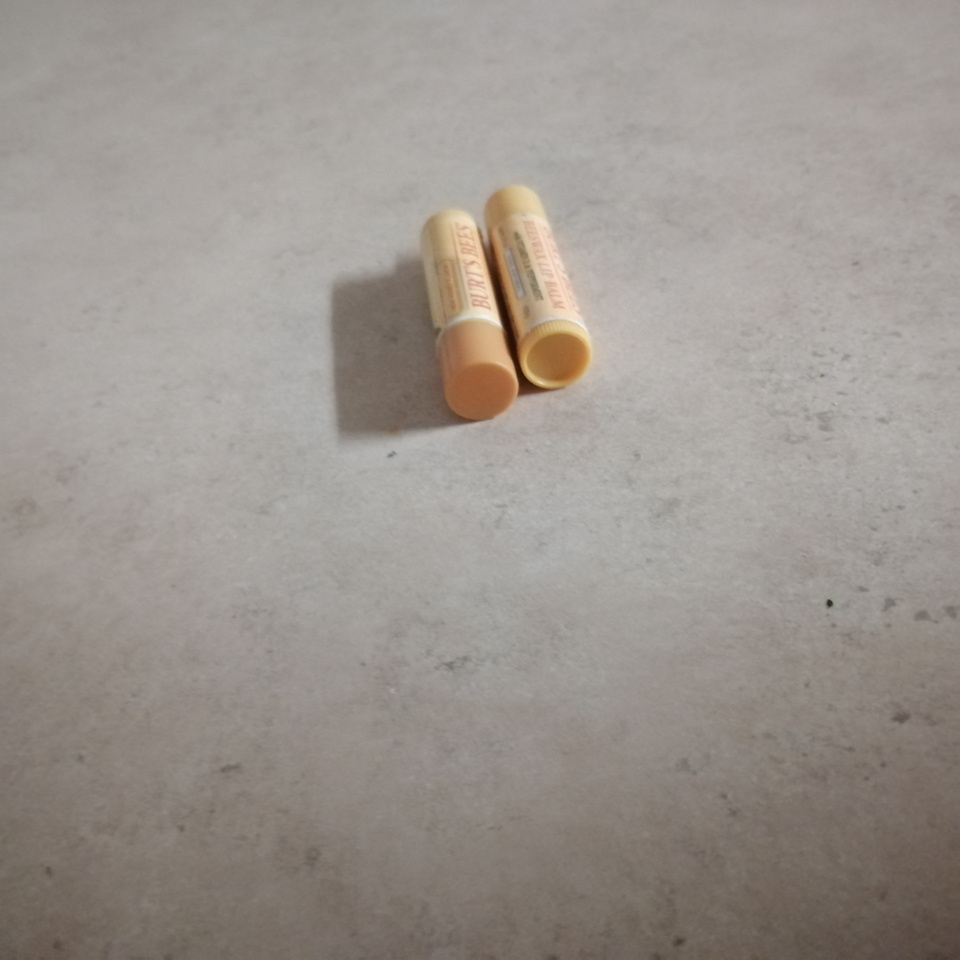chapstick: (483, 184, 592, 389), (420, 209, 520, 420)
